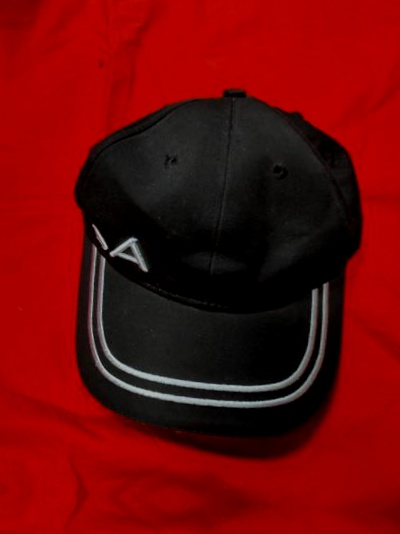Hat: (38, 66, 396, 463)
